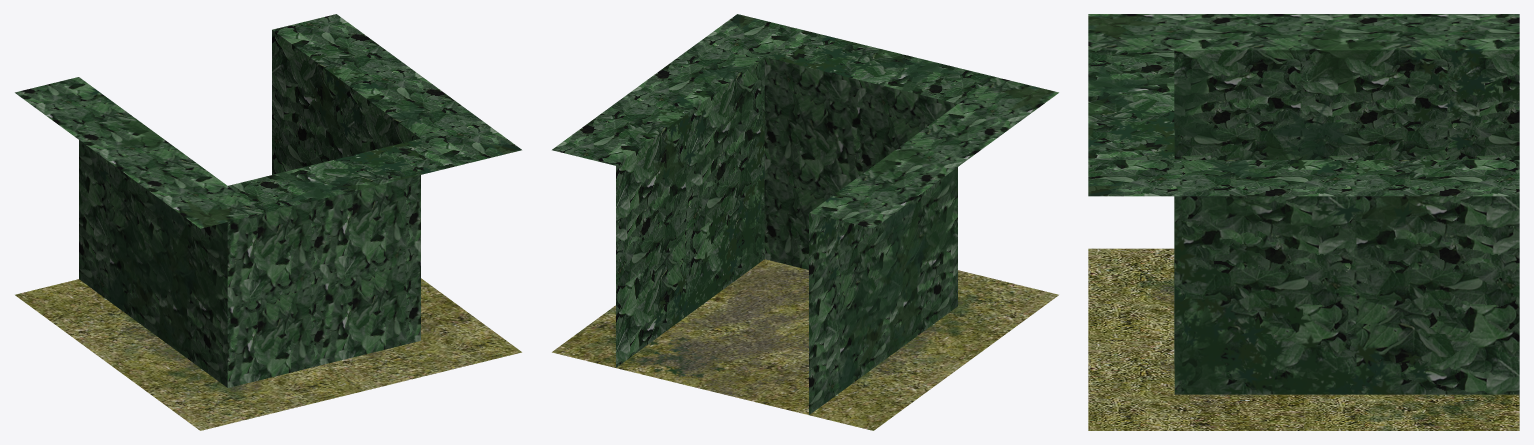
File: 4-5_Dead_End.fbx
The picture shows the model from 3 angles, left to right: view 1: azimuth 30°, elevation 25°; view 2: azimuth 150°, elevation 25°; view 3: azimuth 270°, elevation 25°; orthographic projection. The views are drawn at different scales.
Parts seen in each view (by area): view 1: pCube5; view 2: pCube5; view 3: pCube5.
Part boxes in pixels (x1=…): pCube5: x1=15, y1=14, x2=521, y2=430; pCube5: x1=552, y1=14, x2=1058, y2=430; pCube5: x1=1088, y1=14, x2=1519, y2=430.
Bounding box in the file's own units: 100 × 60 × 100.
Materials: 1 (1 with a texture image).
